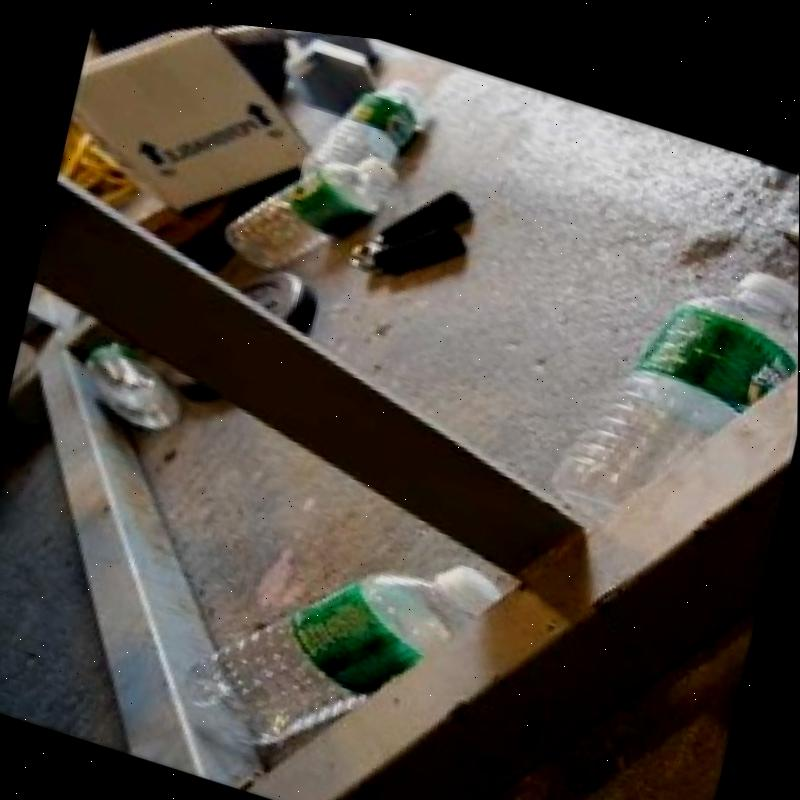botella: (169, 481, 509, 800), (547, 205, 799, 554), (221, 109, 403, 296), (302, 48, 429, 197), (76, 323, 199, 441)
